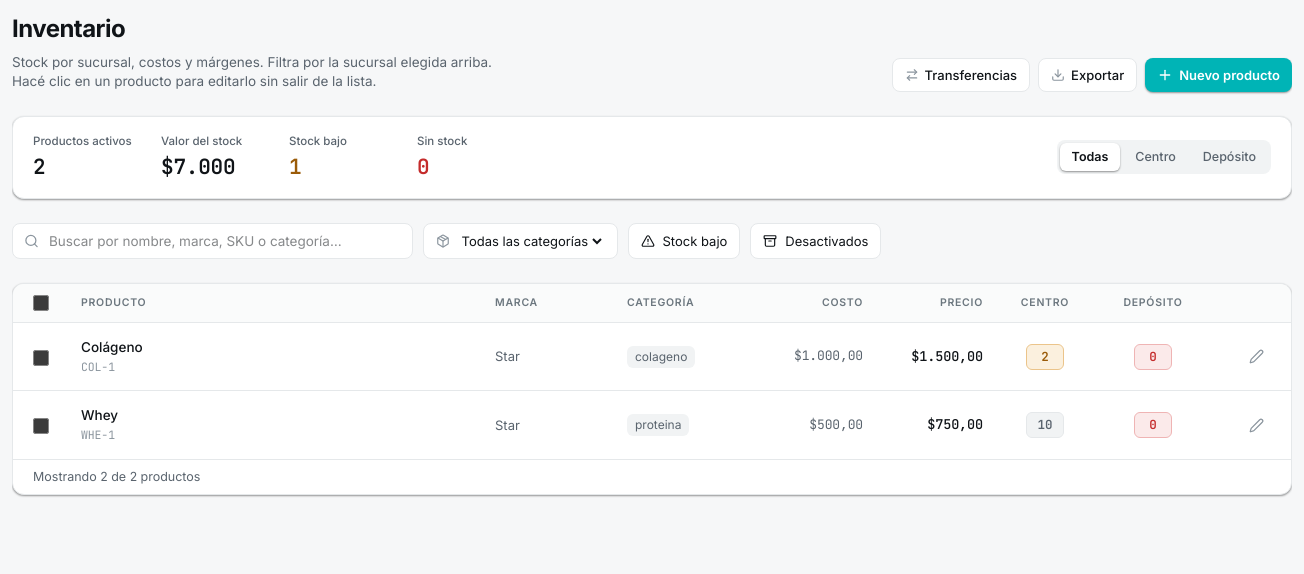
Scenario: Elegir una sucursal acota el listado Y los indicadores › el vacío que produce el filtro de sucursal NO dice «no hay productos cargados»
Click the button "Depósito" at (1229, 158), box [1191, 144, 1268, 172]
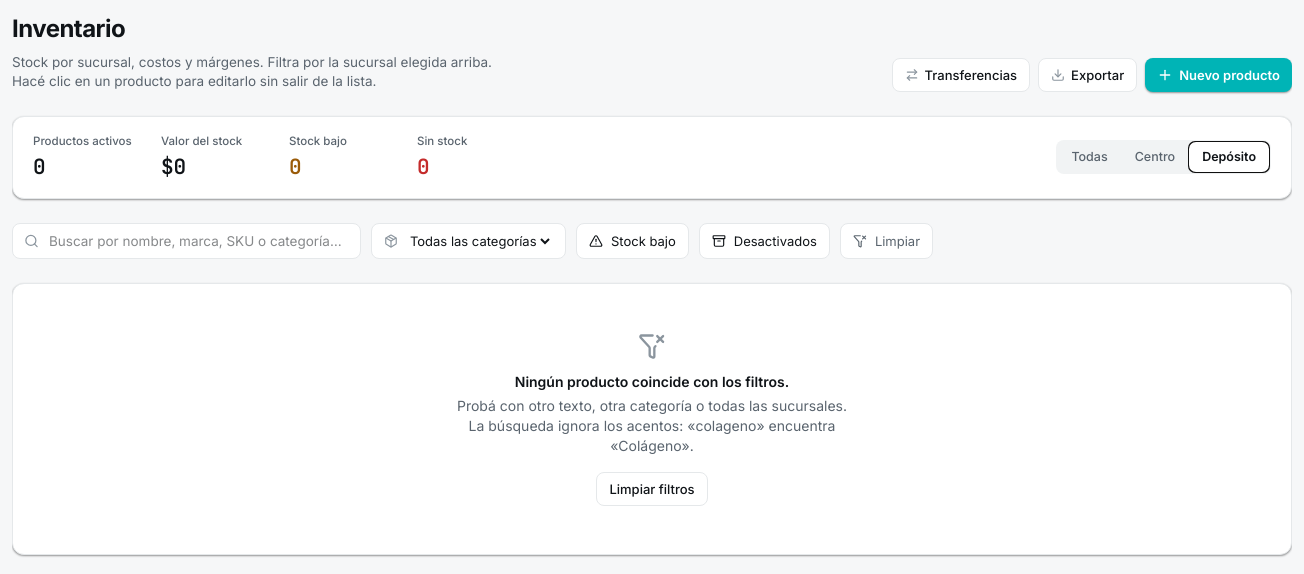
Now the text "Ningún producto coincide con los filtros." is shown, box [515, 373, 789, 390]
